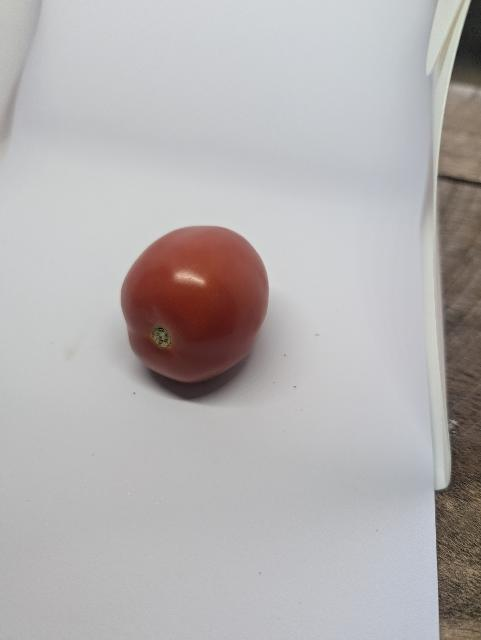red: (114, 223, 278, 392)
